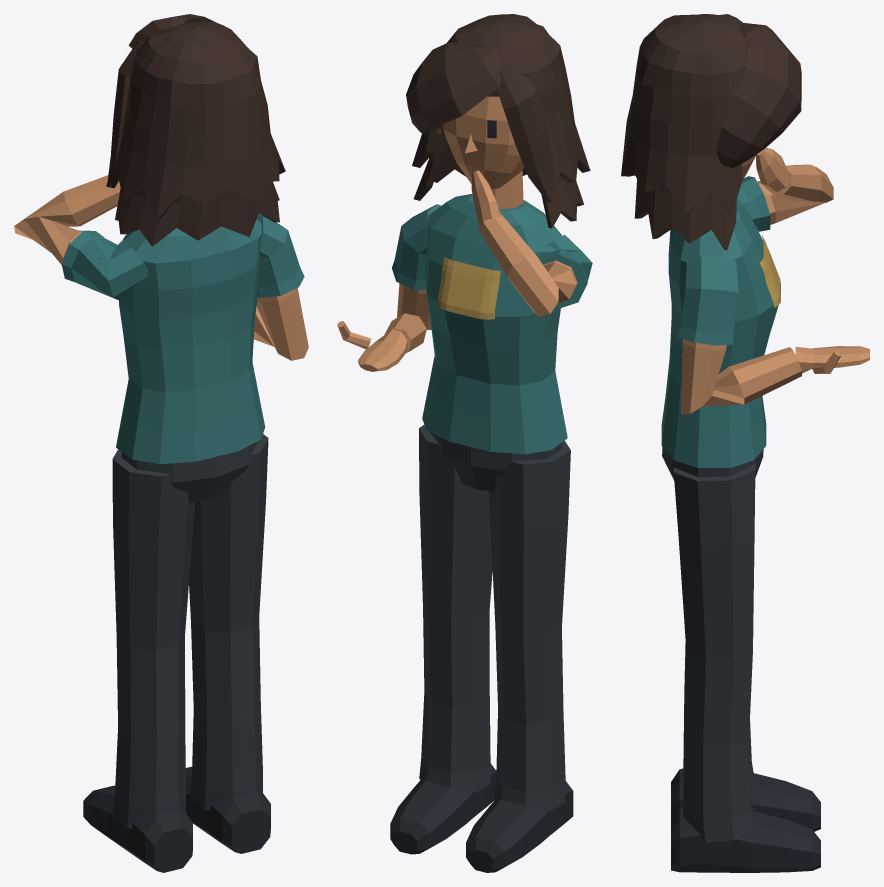
The model's file is lwf_attendee_female_eating_v2.glb.
3 renders of one model, left to right at view 1: azimuth 30°, elevation 25°; view 2: azimuth 150°, elevation 25°; view 3: azimuth 270°, elevation 25°, orthographic. The views are drawn at different scales.
Visible parts, largest first — view 1: Attendee_female_eating_v6; view 2: Attendee_female_eating_v6; view 3: Attendee_female_eating_v6.
Boxes of the visible parts, x1,y1,x2,y2 form: Attendee_female_eating_v6: (14,14,308,872); Attendee_female_eating_v6: (337,14,592,872); Attendee_female_eating_v6: (621,14,869,872).
Bounding box in the file's own units: 0.4921 × 1.7 × 0.4632.
Materials: 1 (1 with a texture image).
